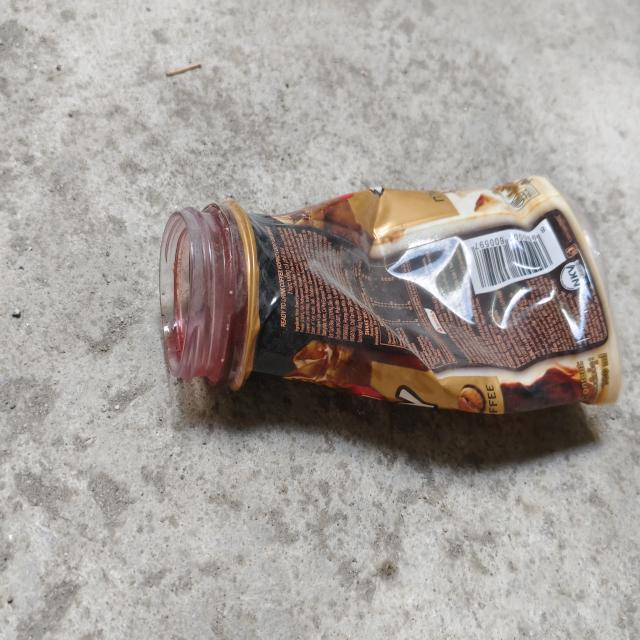Bottle: (159, 176, 621, 418)
